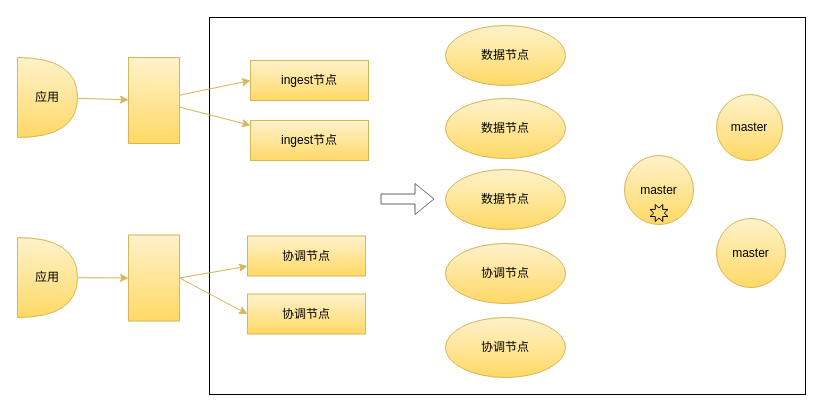
Some shapes in this 823 by 412 pixel diagram are drawn without their labels. The shapes that lost their labels are listed below. From the top down, each one's centre as x and y in pixels, then its label:
point 154,100: 写 LB
point 154,277: 读 LB
